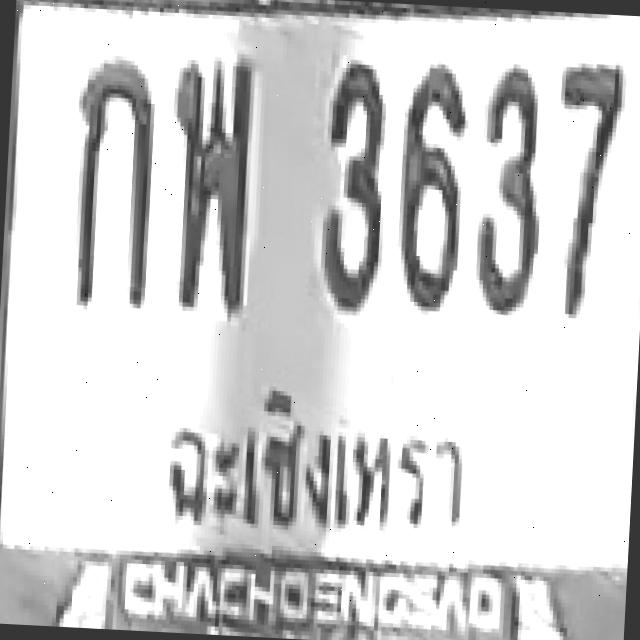10GorGai: (64, 54, 158, 309)
3: (470, 60, 548, 318), (316, 59, 391, 312)
39PhorPan: (164, 52, 256, 304)
6: (392, 61, 470, 314)
7: (550, 58, 626, 280), (552, 58, 626, 229)
Chachoengsao: (140, 368, 483, 560)
